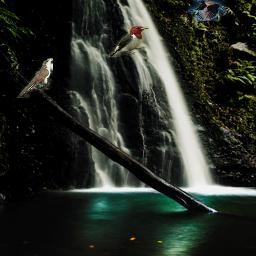Crow: (188, 0, 226, 21)
Cuckoo: (17, 58, 53, 98)
Woodpecker: (109, 26, 149, 57)
